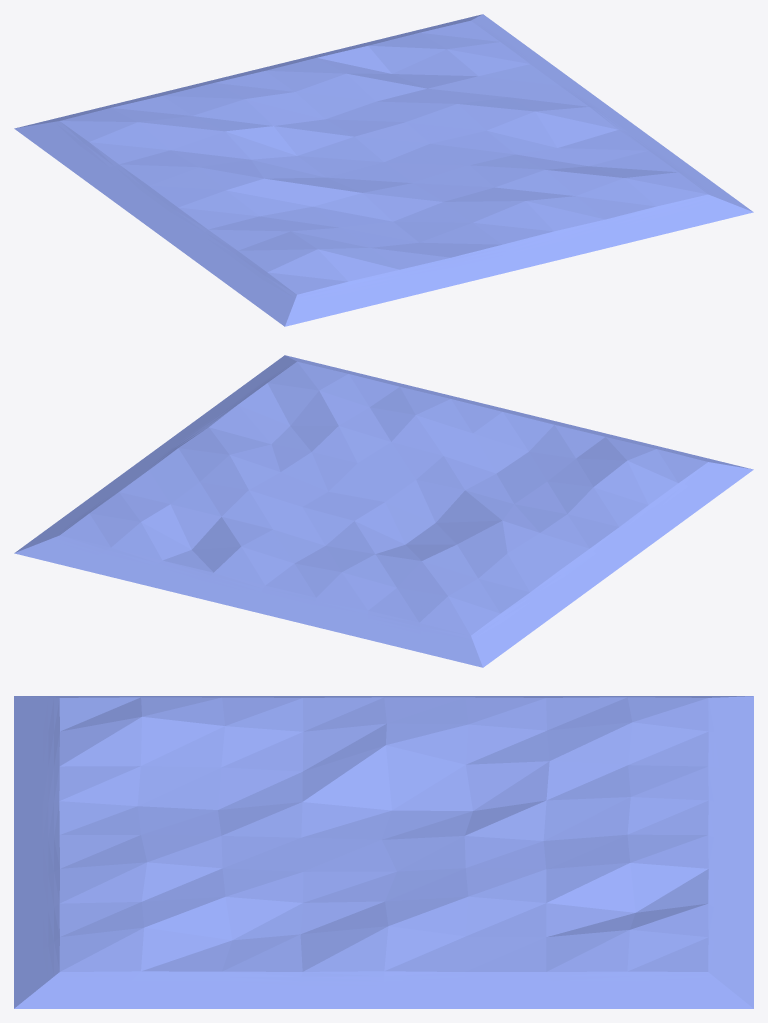
3 views of the same model, one above another, from view 1: azimuth 30°, elevation 25°; view 2: azimuth 150°, elevation 25°; view 3: azimuth 270°, elevation 25° (orthographic). The views are drawn at different scales.
Parts seen in each view (by area): view 1: Cube.020; view 2: Cube.020; view 3: Cube.020.
Part boxes in pixels (<box>): Cube.020: <box>14,14,753,326</box>; Cube.020: <box>14,355,753,667</box>; Cube.020: <box>14,696,753,1008</box>.
Bounding box in the file's own units: 97.82 × 97.82 × 4.75.
